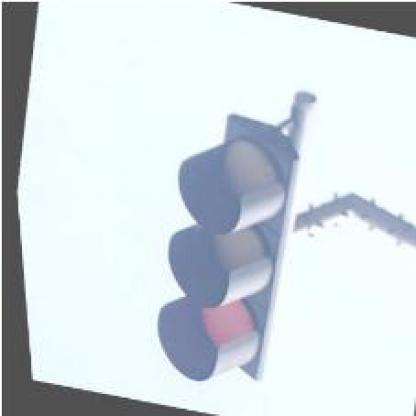red: (126, 99, 306, 396)
